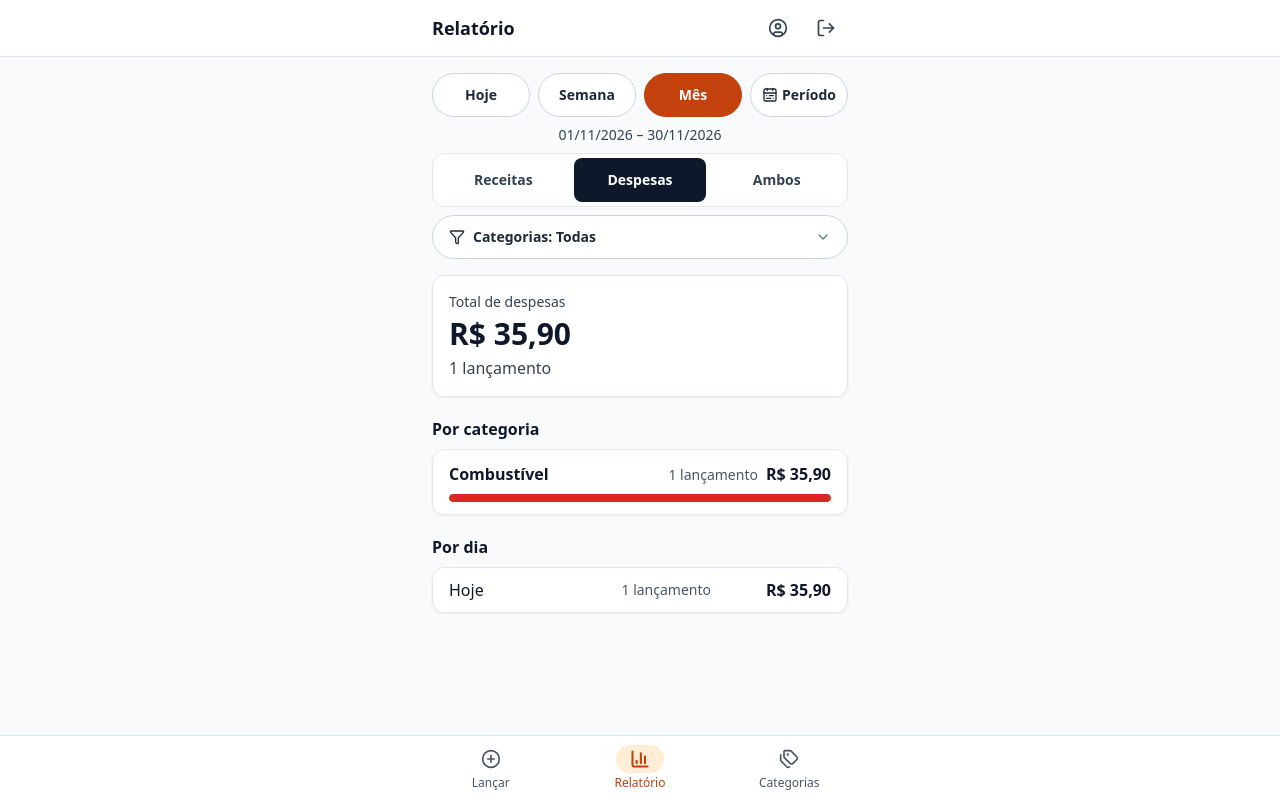
Scenario: Relatório: Receitas | Despesas | Ambos › filtro dcats com outra categoria grava os IDs; em Despesas a checklist só tem a seção Despesas
Check: the element "Período" is shown, box [432,73,848,117]
Check: the element "Total de despesas" is shown, box [432,275,848,397]
Click the button "Categorias: Todas": (534, 236) [432,215,848,259]
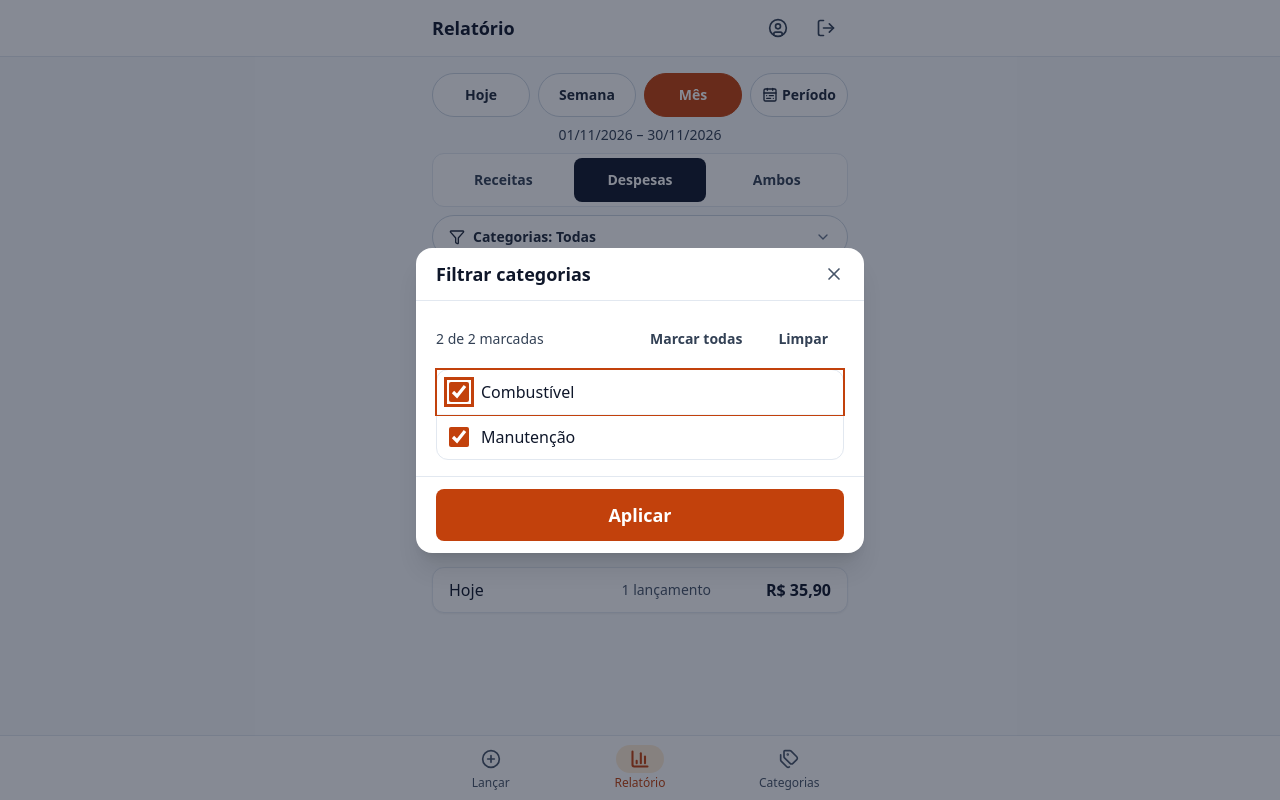
Click the checkbox labelled "Combustível": (459, 392) [449,382,469,402]
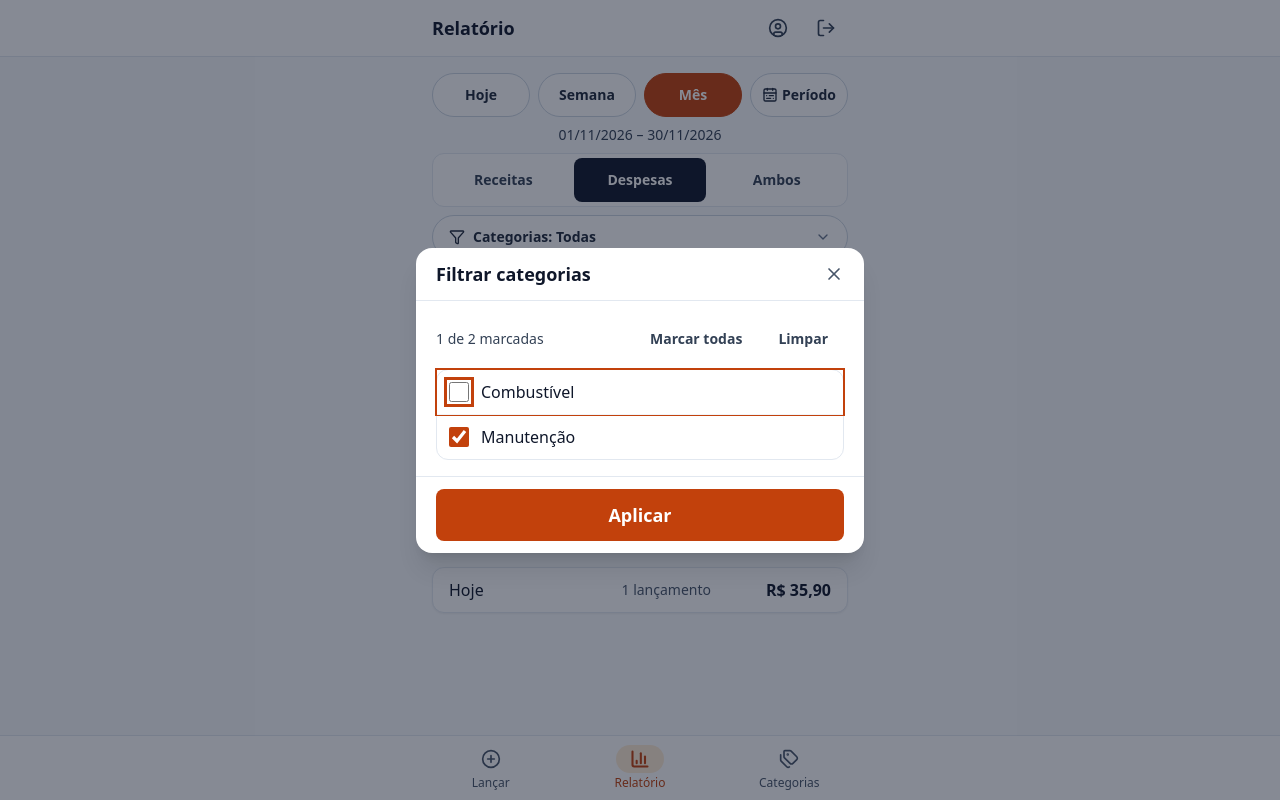
Click the button "Aplicar": (640, 514) [436,488,844,540]
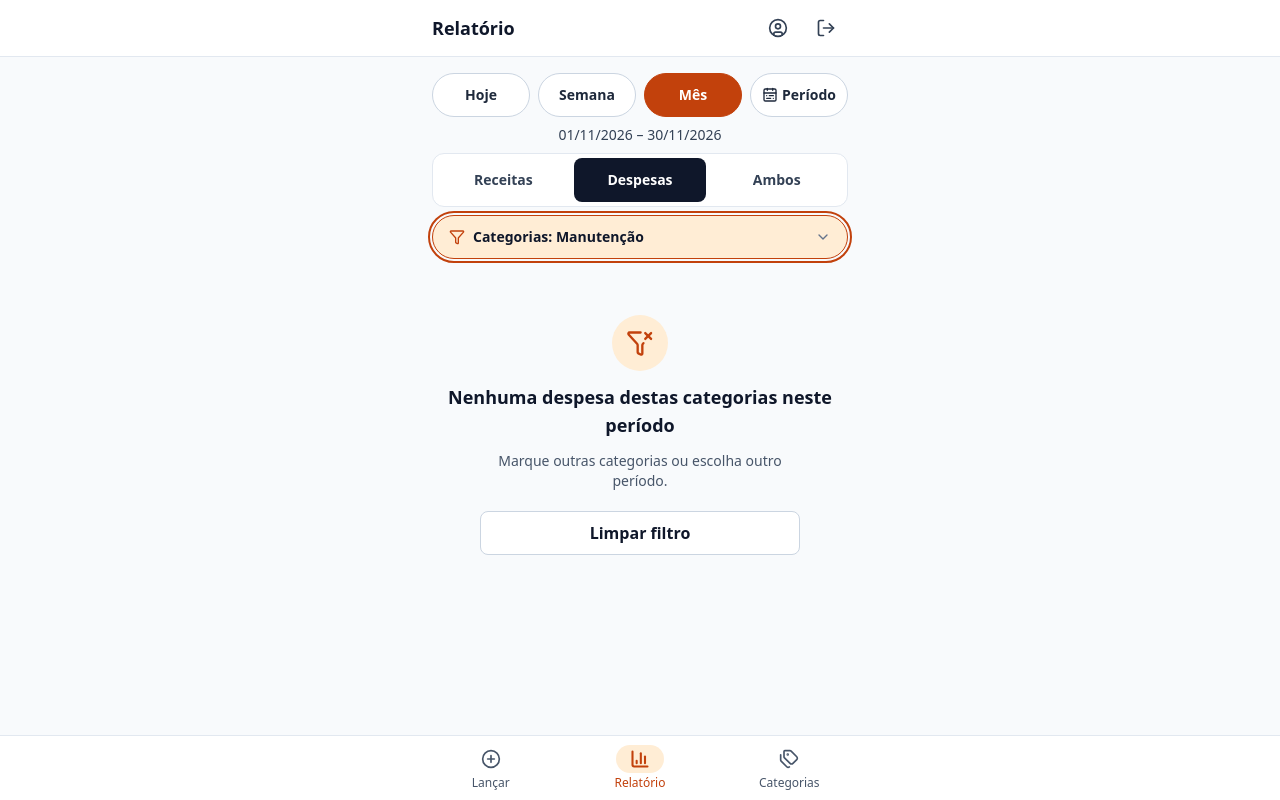
Check: the heading "Nenhuma despesa destas categorias neste período" is shown, box [448,383,832,439]
Check: the button "Categorias: Manutenção" is shown, box [432,215,848,259]
